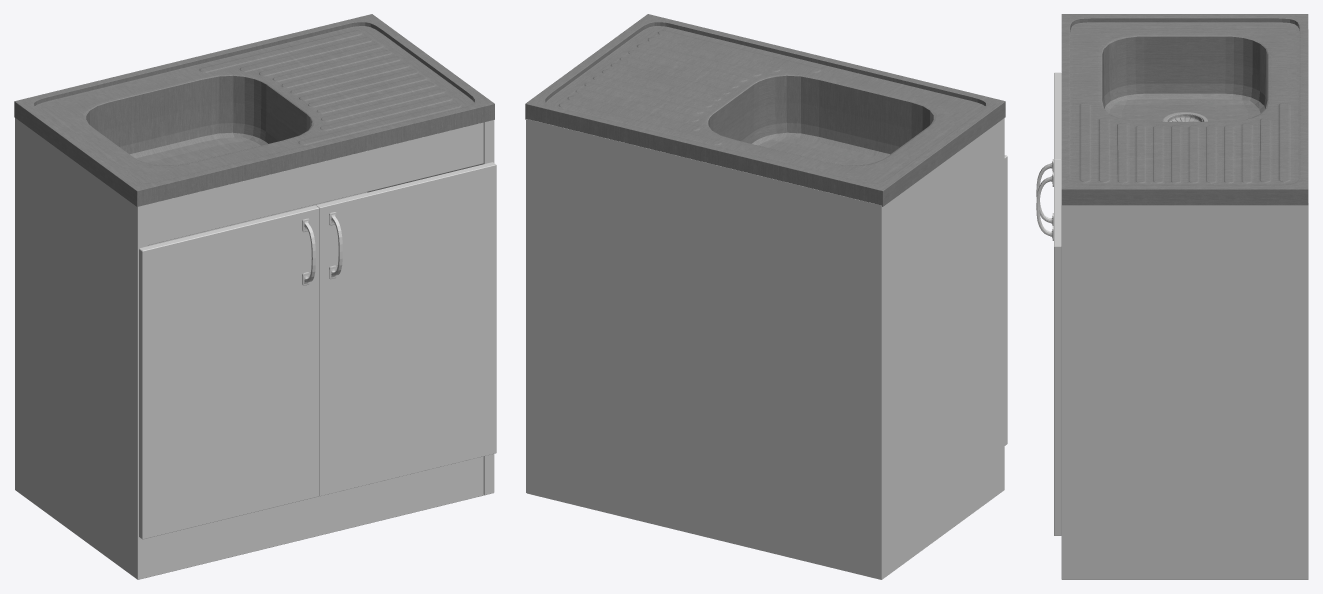
The picture shows the model from 3 angles, left to right: view 1: azimuth 30°, elevation 25°; view 2: azimuth 150°, elevation 25°; view 3: azimuth 270°, elevation 25°; orthographic projection.
Parts seen in each view (by area): view 1: Mesh6_SC900_1_skpBD1C1_Component_2_1_Model; view 2: Mesh6_SC900_1_skpBD1C1_Component_2_1_Model; view 3: Mesh6_SC900_1_skpBD1C1_Component_2_1_Model.
Part boxes in pixels (x1=…): Mesh6_SC900_1_skpBD1C1_Component_2_1_Model: x1=14, y1=14, x2=496, y2=579; Mesh6_SC900_1_skpBD1C1_Component_2_1_Model: x1=525, y1=14, x2=1007, y2=579; Mesh6_SC900_1_skpBD1C1_Component_2_1_Model: x1=1036, y1=14, x2=1308, y2=579.
Bounding box in the file's own units: 0.9 × 0.5899 × 0.9373.
Materials: 3 (1 with a texture image).
